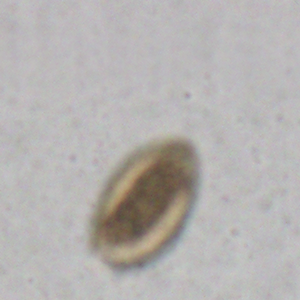Fasciola_hepatica_egg: (89, 135, 203, 270)
